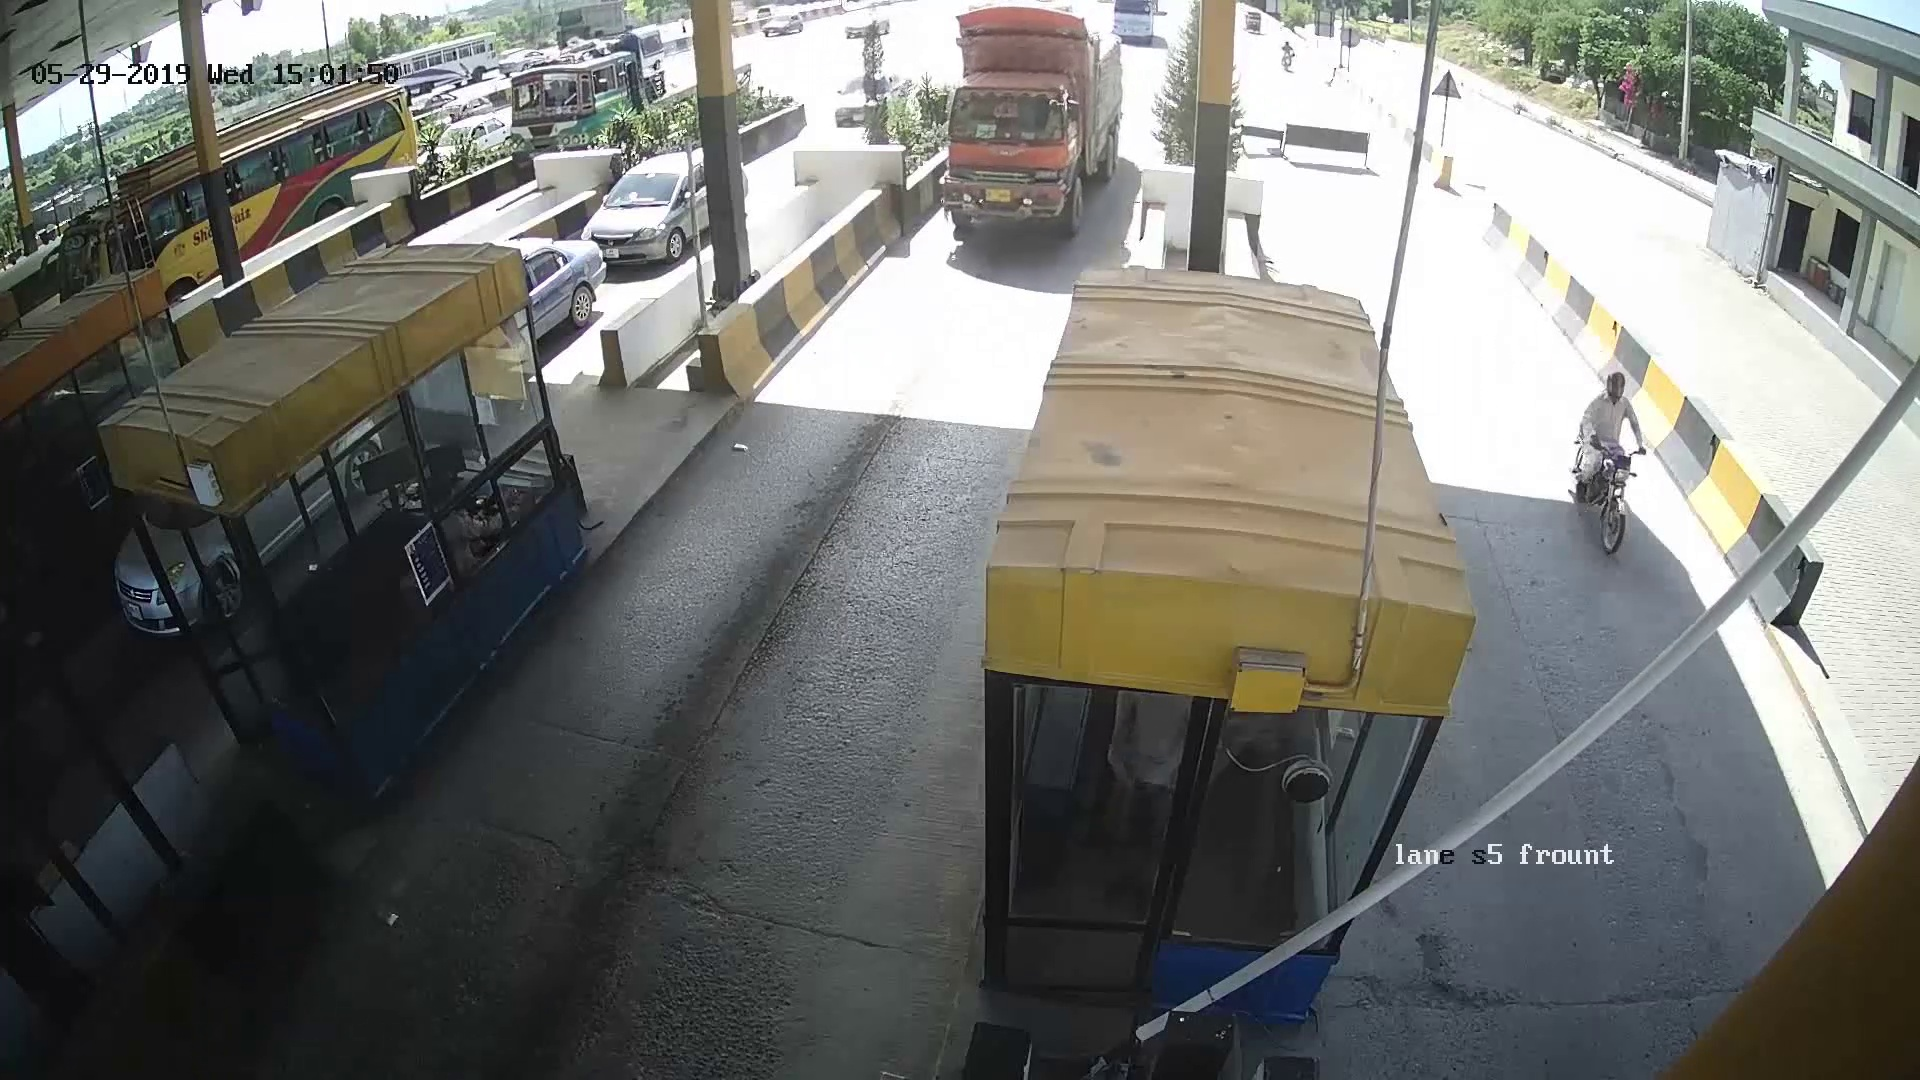truck: (932, 22, 1120, 251)
